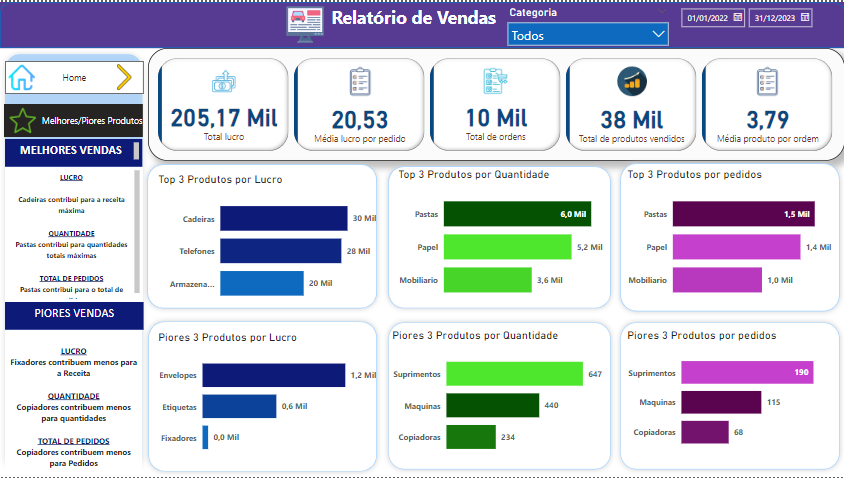

The dashboard page shown, as its layout file describes it:
{"tool":"powerbi","page":{"name":"Melhores/Piores Produtos","canvas":[1280,720],"ordinal":1},"visuals":[{"type":"shape","box":[0,71.2,223.7,649.2],"z":0},{"type":"cardVisual","fields":{"Data":["Pedidos.Total lucro","Pedidos.Média de valor por pedido","Pedidos.Total de pedidos","Pedidos.Total de produtos vendidos","Pedidos.Média de produto por ordem"]},"box":[223.7,69.5,1055.9,171.2],"z":1000},{"type":"shape","box":[0,0,1280.4,69.6],"z":2000},{"type":"textbox","box":[412.7,0,428.8,68.8],"z":3000},{"type":"image","box":[256.1,0,412.7,68.8],"z":4000},{"type":"shape","box":[215.6,237.5,364.1,234.4],"z":5000},{"type":"shape","box":[579.7,240.6,353.1,231.2],"z":6000},{"type":"shape","box":[217.2,475,362.5,243.8],"z":7000},{"type":"shape","box":[579.7,476.6,353.1,239.1],"z":8000},{"type":"textbox","box":[7.8,207.8,207.8,42.2],"z":9000},{"type":"textbox","box":[7.8,250,209.4,204.7],"z":10000},{"type":"textbox","box":[6.8,454.5,210.2,42],"z":11000},{"type":"textbox","box":[8,496.6,208,222.7],"z":12000},{"type":"slicer","fields":{"Values":["Pedidos.Categoria"]},"box":[759.4,0,264.1,68.8],"z":13000},{"type":"shape","box":[931.2,476.6,348.4,239.1],"z":13500},{"type":"slicer","fields":{"Values":["Pedidos.Data_do_Pedido"]},"box":[1020.3,0,259.4,68.8],"z":14000},{"type":"barChart","title":"Top 3 Produtos por Lucro","fields":{"Y":["Pedidos.Total lucro"],"Category":["Pedidos.Subcategoria"]},"box":[234.4,257.8,345.3,214.1],"z":15000},{"type":"barChart","title":"Piores 3 Produtos por Lucro","fields":{"Y":["Pedidos.Total lucro"],"Category":["Pedidos.Subcategoria"]},"box":[234.4,496.9,345.3,206.2],"z":16000},{"type":"barChart","title":"Top 3 Produtos por Quantidade","fields":{"Y":["Sum(Pedidos.Quantidade)"],"Category":["Pedidos.Subcategoria"]},"box":[598.4,250,334.4,217.2],"z":17000},{"type":"barChart","title":"Piores 3 Produtos por Quantidade","fields":{"Category":["Pedidos.Subcategoria"],"Y":["Sum(Pedidos.Quantidade)"]},"box":[589.1,493.8,329.7,209.4],"z":18000},{"type":"shape","box":[931.2,235.9,348.4,240.6],"z":19000},{"type":"barChart","title":"Top 3 Produtos por pedidos","fields":{"Category":["Pedidos.Subcategoria"],"Y":["Pedidos.Total de ordens"]},"box":[945.3,250,334.4,217.2],"z":20000},{"type":"barChart","title":"Piores 3 Produtos por pedidos","fields":{"Category":["Pedidos.Subcategoria"],"Y":["Pedidos.Total de ordens"]},"box":[945.3,493.8,318.8,200],"z":22000},{"type":"pageNavigator","box":[7.6,89.4,210.6,50],"z":22001},{"type":"pageNavigator","box":[6.1,154.5,210.6,50],"z":22002},{"type":"image","box":[7.6,154.5,53,50],"z":22003},{"type":"image","box":[6.1,89.4,54.5,50],"z":22004},{"type":"image","box":[160.8,89.2,54.9,49],"z":22005}]}

Visuals, with their boxes in screenshot pixels (x1, y1, x2, y2), scaled from the page's 1280x720 canvas onto the 844x478 screenshot:
shape: bbox(0, 47, 148, 477)
cardVisual - Pedidos.Total lucro x Pedidos.Média de valor por pedido: bbox(148, 46, 843, 160)
shape: bbox(0, 0, 843, 46)
textbox: bbox(272, 0, 555, 46)
image: bbox(169, 0, 441, 46)
shape: bbox(142, 158, 382, 313)
shape: bbox(382, 160, 615, 313)
shape: bbox(143, 315, 382, 477)
shape: bbox(382, 316, 615, 475)
textbox: bbox(5, 138, 142, 166)
textbox: bbox(5, 166, 143, 302)
textbox: bbox(4, 302, 143, 330)
textbox: bbox(5, 330, 142, 477)
slicer - Pedidos.Categoria: bbox(501, 0, 675, 46)
shape: bbox(614, 316, 843, 475)
slicer - Pedidos.Data_do_Pedido: bbox(673, 0, 843, 46)
"Top 3 Produtos por Lucro" barChart: bbox(155, 171, 382, 313)
"Piores 3 Produtos por Lucro" barChart: bbox(155, 330, 382, 467)
"Top 3 Produtos por Quantidade" barChart: bbox(395, 166, 615, 310)
"Piores 3 Produtos por Quantidade" barChart: bbox(388, 328, 606, 467)
shape: bbox(614, 157, 843, 316)
"Top 3 Produtos por pedidos" barChart: bbox(623, 166, 843, 310)
"Piores 3 Produtos por pedidos" barChart: bbox(623, 328, 834, 461)
pageNavigator: bbox(5, 59, 144, 93)
pageNavigator: bbox(4, 103, 143, 136)
image: bbox(5, 103, 40, 136)
image: bbox(4, 59, 40, 93)
image: bbox(106, 59, 142, 92)
